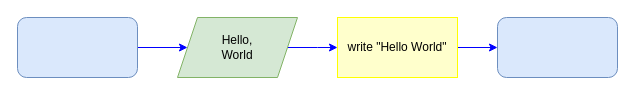
Image size: 635x95. Some labels were removed from this diagram. Here are the shapes that lost their labels. From the top down, the centre of each, then its label:
At [77,47]: "Start".
At [557,47]: "End".
